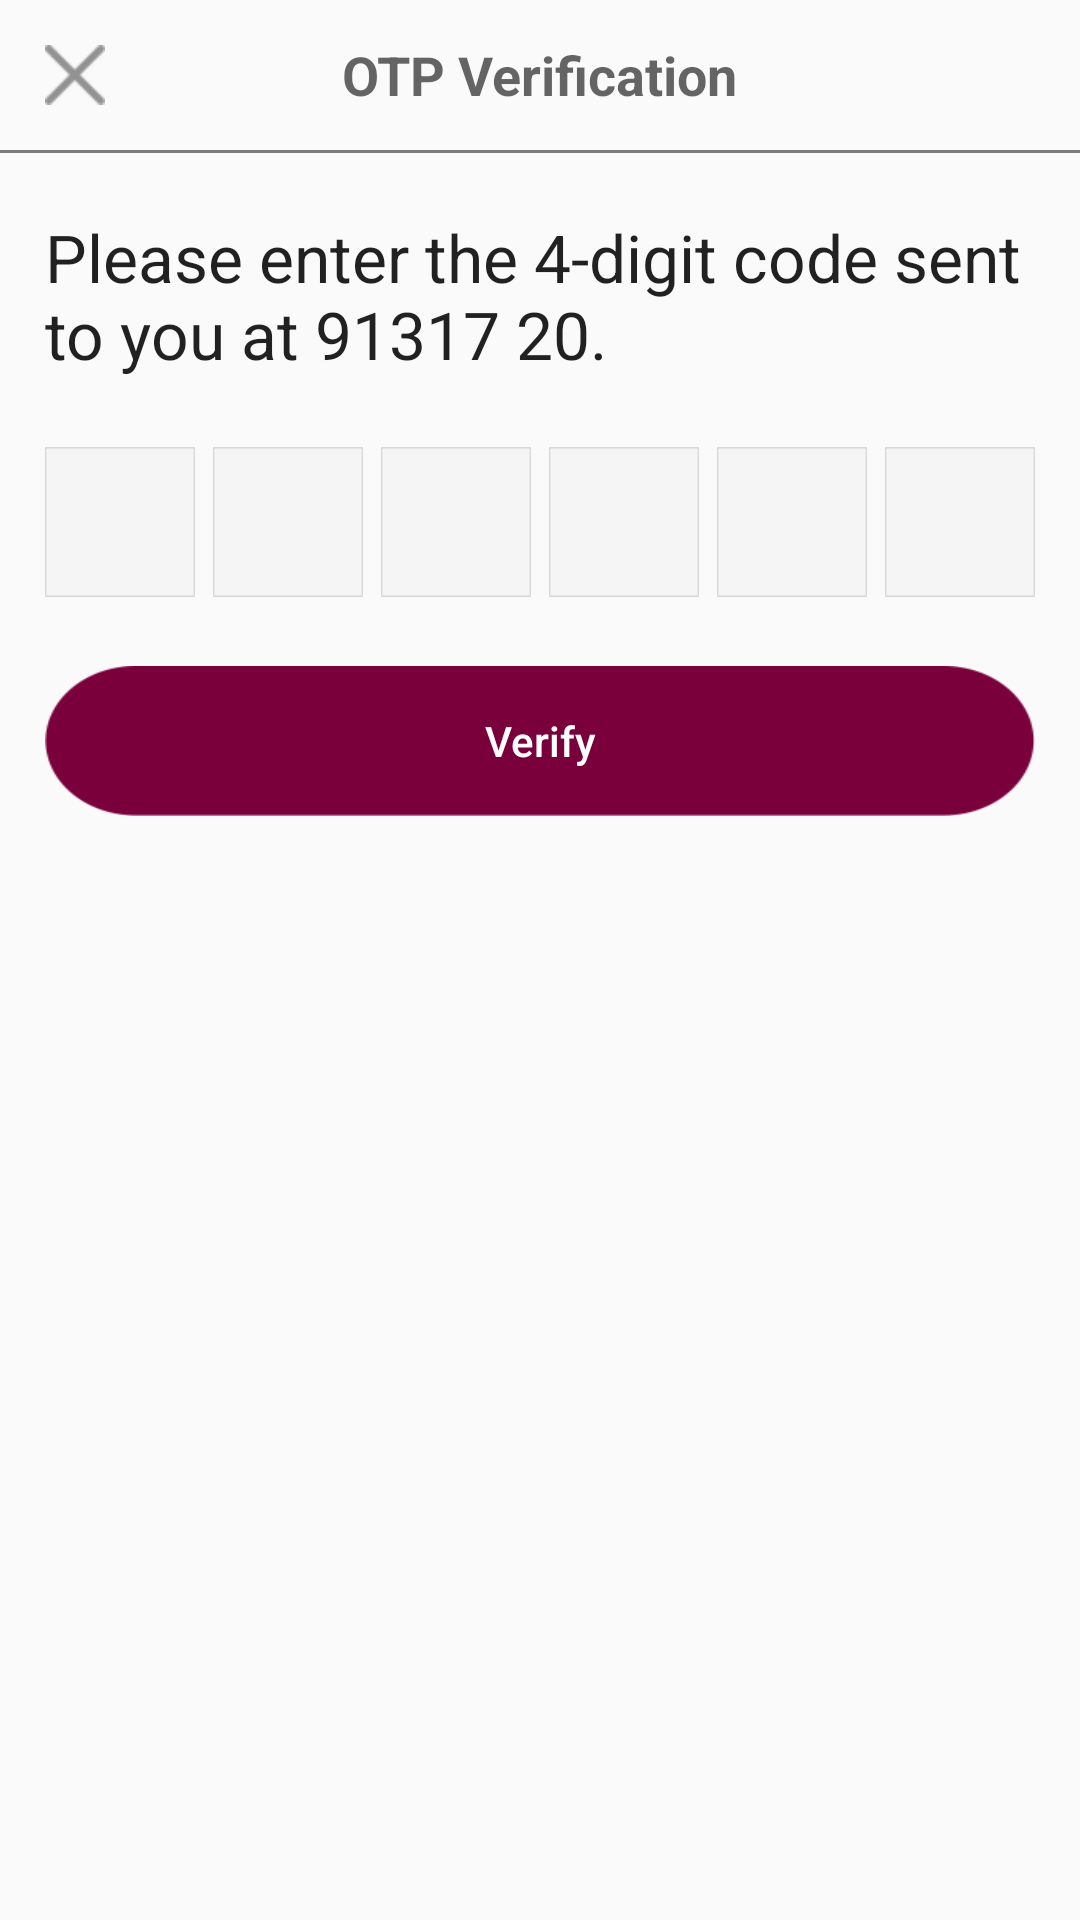

Locate icon controls on the screen. Image size 1080*1920, boxes as (x1, y1, x2, y2).
cross: (45, 45, 105, 105)
